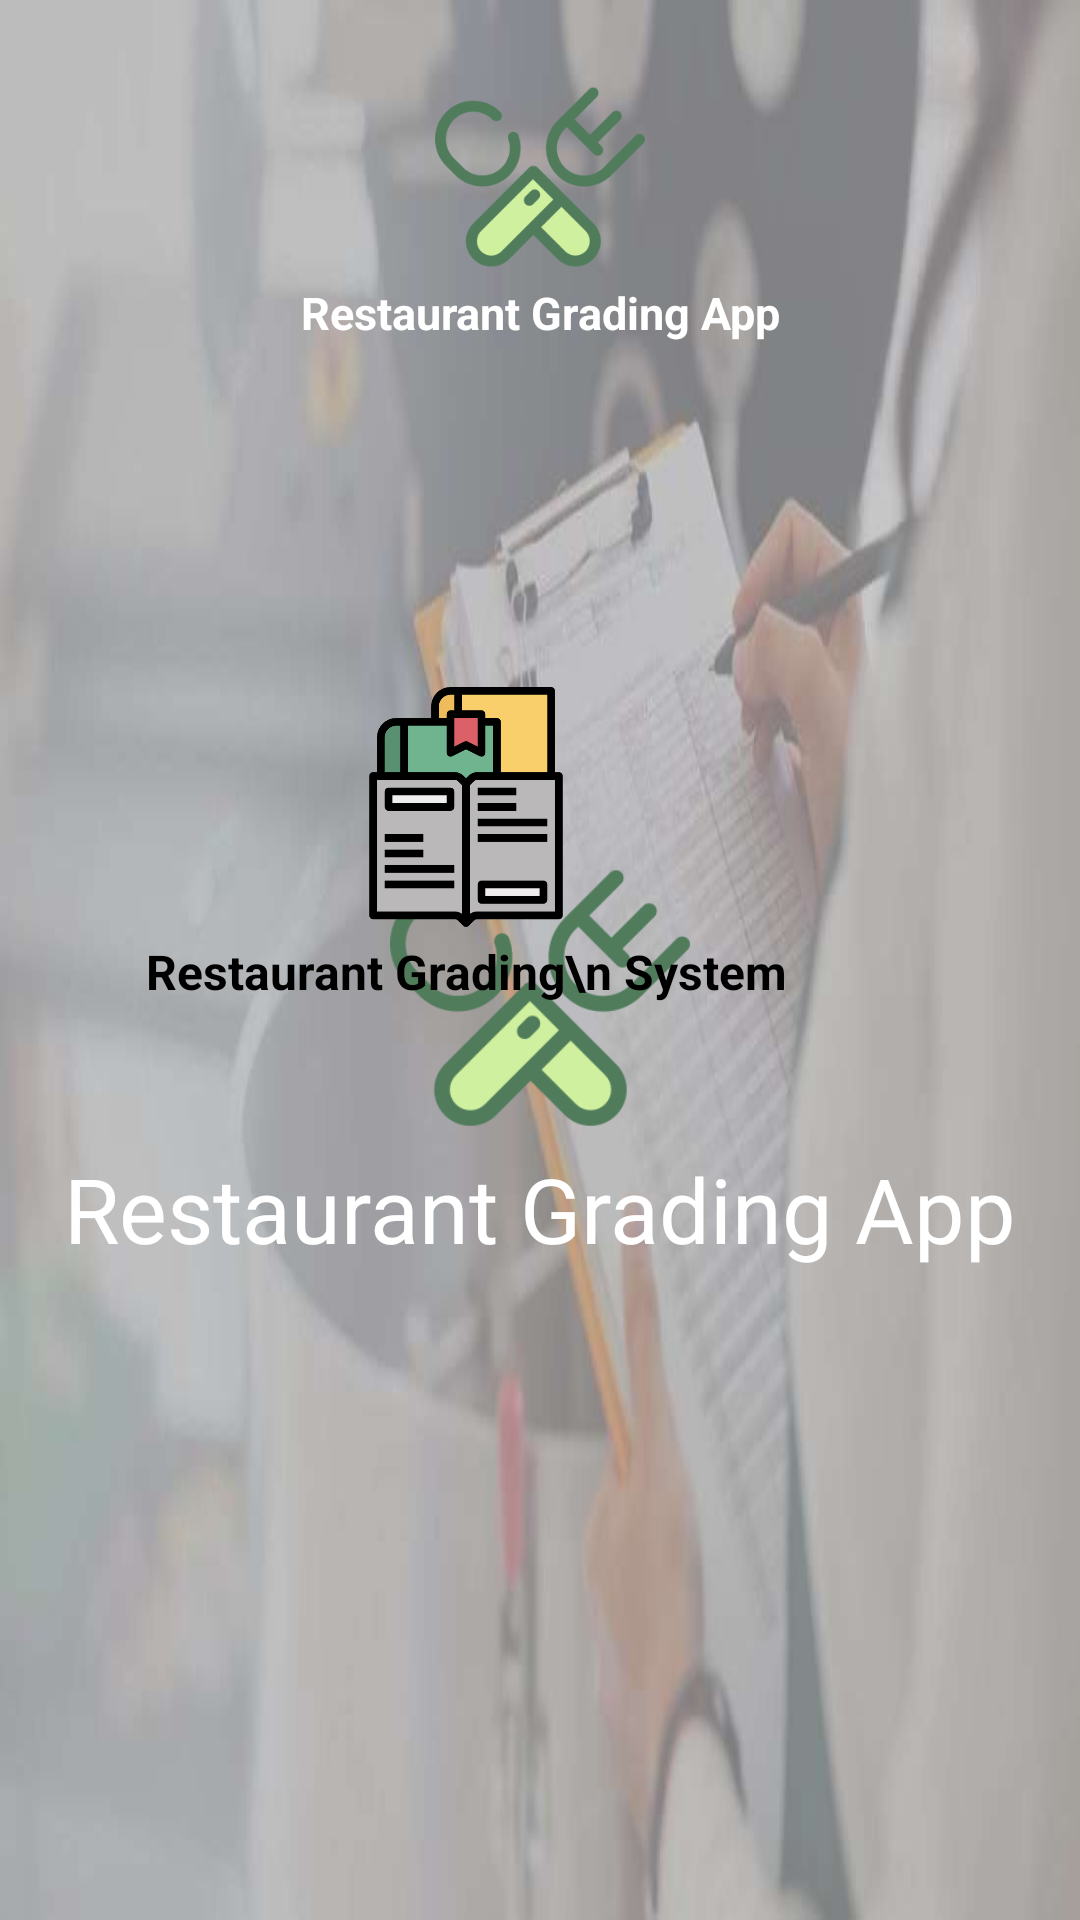

Icons on this 1080×1920 Android screen, each with the point to tap as (x=x, y=y):
about system: (x=466, y=807)
